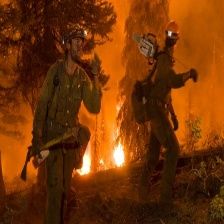fire: (109, 104, 130, 165), (76, 143, 93, 178)
smoke: (176, 2, 223, 146), (2, 116, 41, 188)
